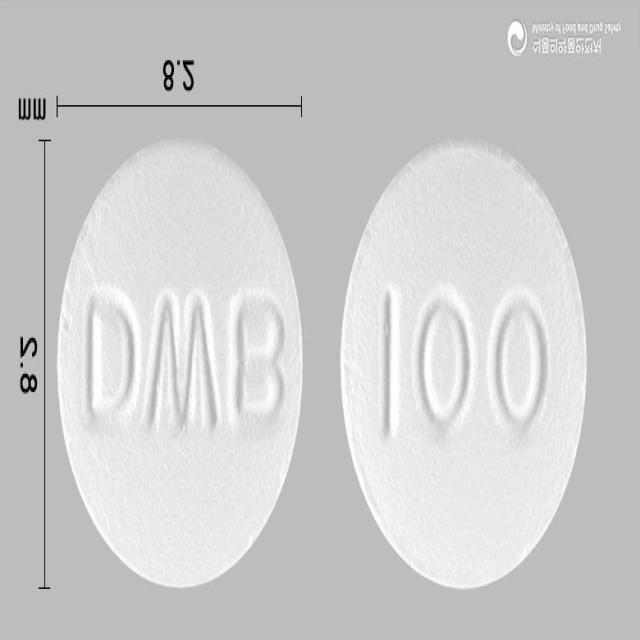Ciracle: (341, 139, 588, 592), (57, 138, 302, 589)
